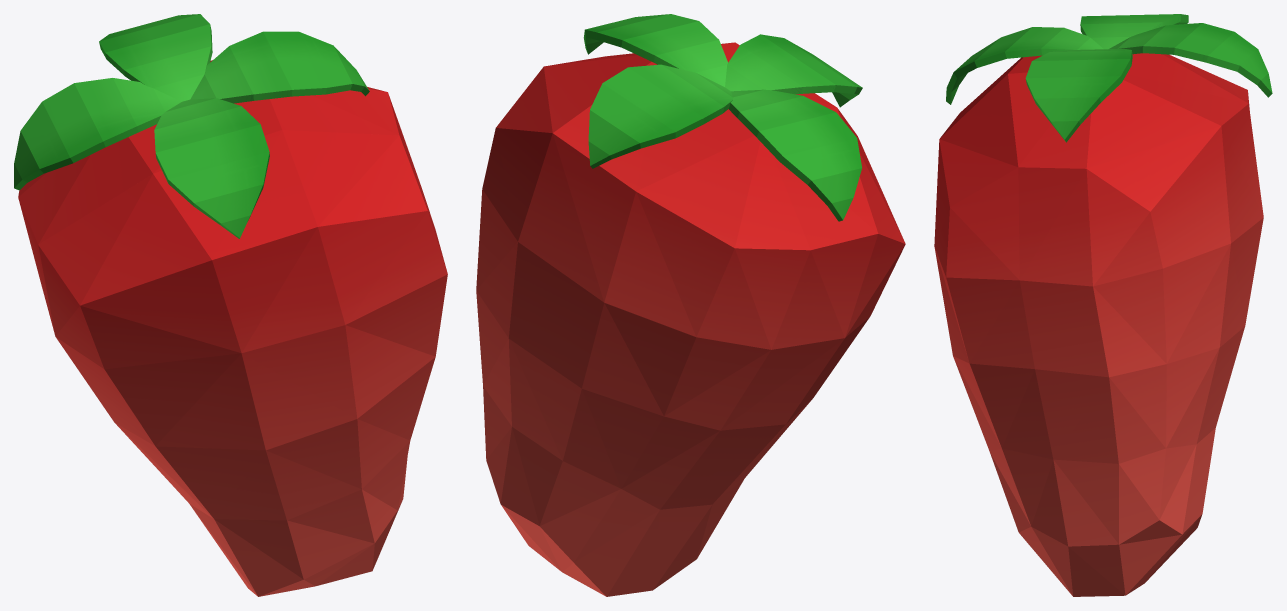
File: morango.fbx
The picture shows the model from 3 angles, left to right: view 1: azimuth 30°, elevation 25°; view 2: azimuth 150°, elevation 25°; view 3: azimuth 270°, elevation 25°; orthographic projection. The views are drawn at different scales.
Parts seen in each view (by area): view 1: Cube_013; view 2: Cube_013; view 3: Cube_013.
Part boxes in pixels (bbox=[...]): Cube_013: bbox=[14, 14, 447, 596]; Cube_013: bbox=[476, 14, 905, 596]; Cube_013: bbox=[934, 14, 1272, 596].
Bounding box in the file's own units: 0.4344 × 0.5948 × 0.3549.
